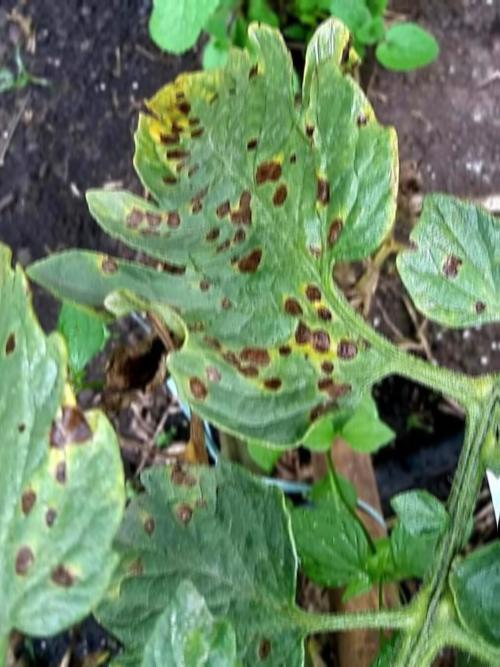Tomato Early blight leaf: (37, 16, 368, 440), (95, 455, 327, 661)
